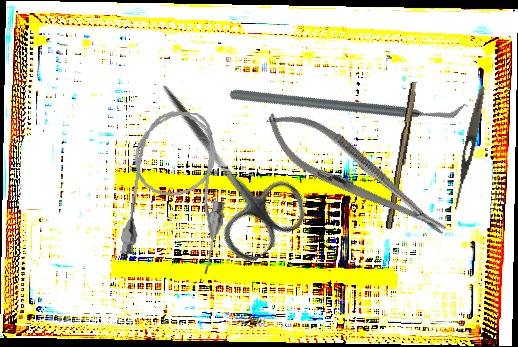Cannula: (118, 106, 236, 275)
Chopper: (227, 1, 469, 203)
Dressing Forceps: (450, 84, 489, 213)
Iris Scissors: (125, 60, 317, 269)
Needle Holder: (254, 96, 458, 254)
Scalpel Handle: (385, 81, 420, 230)
